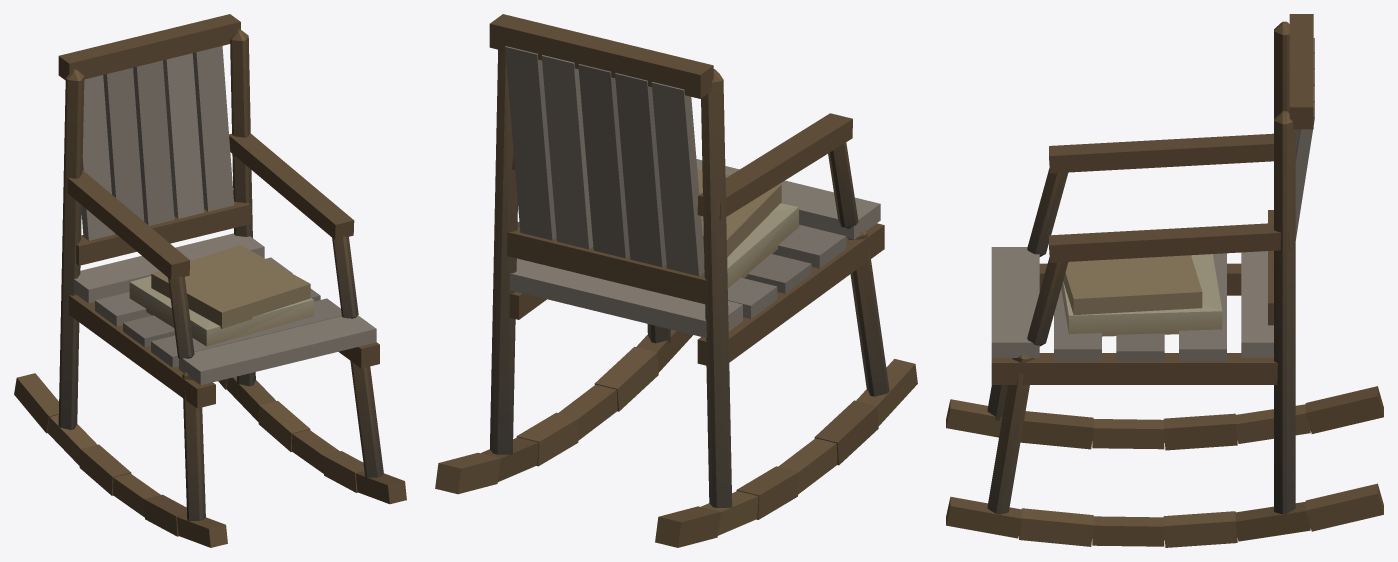
The model's file is rocking-chair.glb.
3 views of the same model, side by side, from view 1: azimuth 30°, elevation 25°; view 2: azimuth 150°, elevation 25°; view 3: azimuth 270°, elevation 25° (orthographic). The views are drawn at different scales.
Parts seen in each view (by area): view 1: rocking_chair; view 2: rocking_chair; view 3: rocking_chair.
Boxes of the visible parts, x1,y1,x2,y2 form: rocking_chair: (14, 14, 406, 547); rocking_chair: (435, 14, 917, 547); rocking_chair: (946, 14, 1383, 547).
Bounding box in the file's own units: 0.53 × 0.9952 × 0.9107.
